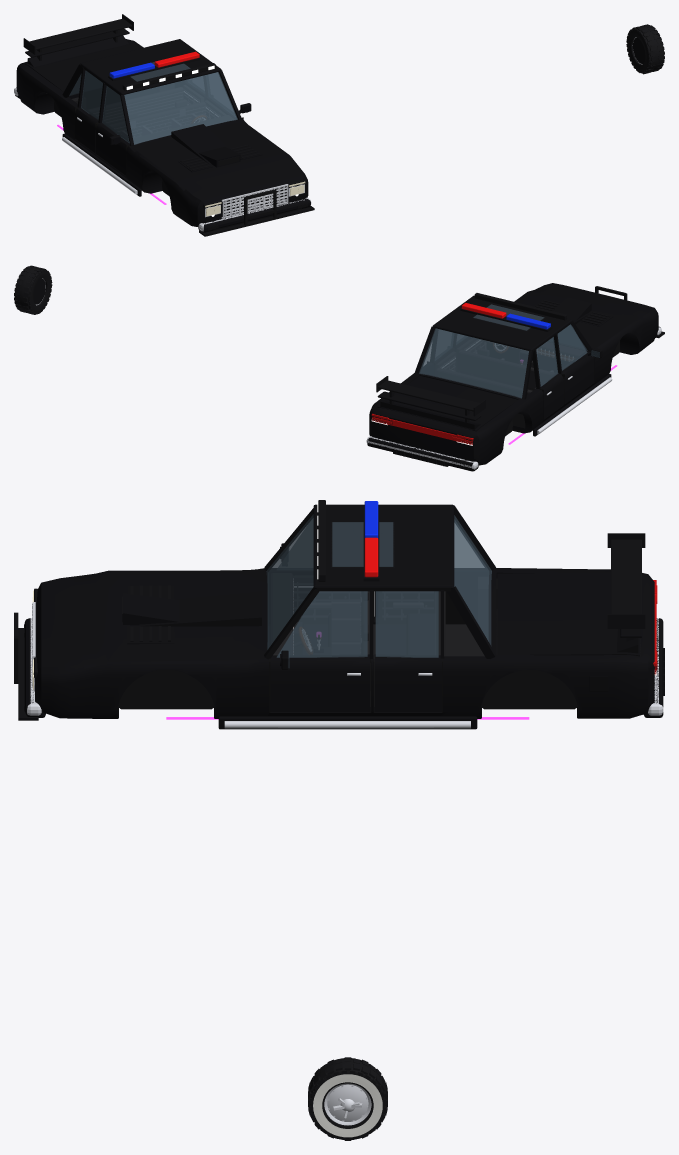
The model's file is PoliceCruiser.glb.
3 views of the same model, one above another, from view 1: azimuth 30°, elevation 25°; view 2: azimuth 150°, elevation 25°; view 3: azimuth 270°, elevation 25° (orthographic). The views are drawn at different scales.
Parts seen in each view (by area): view 1: PoliceCruiser_PanelHood, PoliceCruiser_Glass, PoliceCruiser_PanelSideR, PoliceCruiser_Body, PoliceCruiser_PanelRoof, PoliceCruiser_Lid, PoliceCruiser_OptSpoilerGTDark, PoliceCruiser_RoofBody, PoliceCruiser_OptSeatsBucketsSeat, PoliceCruiserWheel_TireOffroadRubber, PoliceCruiser_OptHoodCowlBody, PoliceCruiser_PanelDoorR (+23 smaller); view 2: PoliceCruiser_Body, PoliceCruiser_RoofGlass, PoliceCruiser_PanelSideR, PoliceCruiser_PanelHood, PoliceCruiser_PanelRoof, PoliceCruiser_Lid, PoliceCruiser_OptSeatsBucketsSeat, PoliceCruiser_RoofBody, PoliceCruiser_OptSpoilerGTDark, PoliceCruiser_OptSeatsDiamondSeat, PoliceCruiserWheel_TireOffroadRubber, PoliceCruiser_PanelDoorR (+24 smaller); view 3: PoliceCruiser_PanelSideL, PoliceCruiser_PanelHood, PoliceCruiser_Lid, PoliceCruiser_PanelRoof, PoliceCruiser_Body, PoliceCruiser_Under, PoliceCruiser_PanelDoorL, PoliceCruiser_RoofGlass__WinDoorL, PoliceCruiser_RoofGlass__WinDoorRL, PoliceCruiser_RoofBody, PoliceCruiser_PanelDoorRL, PoliceCruiser_Glass (+16 smaller).
Part boxes in pixels (bbox=[...]): PoliceCruiser_PanelHood: bbox=[131, 119, 305, 203]; PoliceCruiser_Glass: bbox=[124, 72, 237, 144]; PoliceCruiser_PanelSideR: bbox=[16, 65, 199, 226]; PoliceCruiser_Body: bbox=[18, 39, 308, 226]; PoliceCruiser_PanelRoof: bbox=[80, 39, 221, 94]; PoliceCruiser_Lid: bbox=[25, 41, 137, 92]; PoliceCruiser_OptSpoilerGTDark: bbox=[23, 14, 133, 60]; PoliceCruiser_RoofBody: bbox=[62, 64, 241, 145]; PoliceCruiser_OptSeatsBucketsSeat: bbox=[89, 87, 190, 134]; PoliceCruiserWheel_TireOffroadRubber: bbox=[626, 24, 664, 74]; PoliceCruiser_OptHoodCowlBody: bbox=[171, 124, 228, 164]; PoliceCruiser_PanelDoorR: bbox=[96, 122, 129, 175]; PoliceCruiser_Body: bbox=[369, 290, 643, 463]; PoliceCruiser_RoofGlass: bbox=[419, 328, 528, 398]; PoliceCruiser_PanelSideR: bbox=[473, 309, 658, 465]; PoliceCruiser_PanelHood: bbox=[516, 283, 656, 348]; PoliceCruiser_PanelRoof: bbox=[432, 295, 572, 350]; PoliceCruiser_Lid: bbox=[378, 376, 517, 431]; PoliceCruiser_OptSeatsBucketsSeat: bbox=[437, 348, 539, 397]; PoliceCruiser_RoofBody: bbox=[415, 321, 591, 399]; PoliceCruiser_OptSpoilerGTDark: bbox=[376, 376, 485, 422]; PoliceCruiser_OptSeatsDiamondSeat: bbox=[459, 350, 553, 390]; PoliceCruiserWheel_TireOffroadRubber: bbox=[14, 265, 52, 314]; PoliceCruiser_PanelDoorR: bbox=[562, 351, 594, 403]; PoliceCruiser_PanelSideL: bbox=[41, 660, 654, 718]; PoliceCruiser_PanelHood: bbox=[36, 569, 266, 673]; PoliceCruiser_Lid: bbox=[497, 572, 639, 656]; PoliceCruiser_PanelRoof: bbox=[313, 504, 454, 589]; PoliceCruiser_Body: bbox=[35, 568, 654, 718]; PoliceCruiser_Under: bbox=[118, 579, 640, 709]; PoliceCruiser_PanelDoorL: bbox=[270, 654, 370, 712]; PoliceCruiser_RoofGlass__WinDoorL: bbox=[276, 591, 367, 657]; PoliceCruiser_RoofGlass__WinDoorRL: bbox=[375, 591, 438, 657]; PoliceCruiser_RoofBody: bbox=[264, 505, 496, 659]; PoliceCruiser_PanelDoorRL: bbox=[374, 654, 441, 712]; PoliceCruiser_Glass: bbox=[266, 514, 313, 649].
Bounding box in the file's own units: 35.02 × 7.14 × 20.8.
